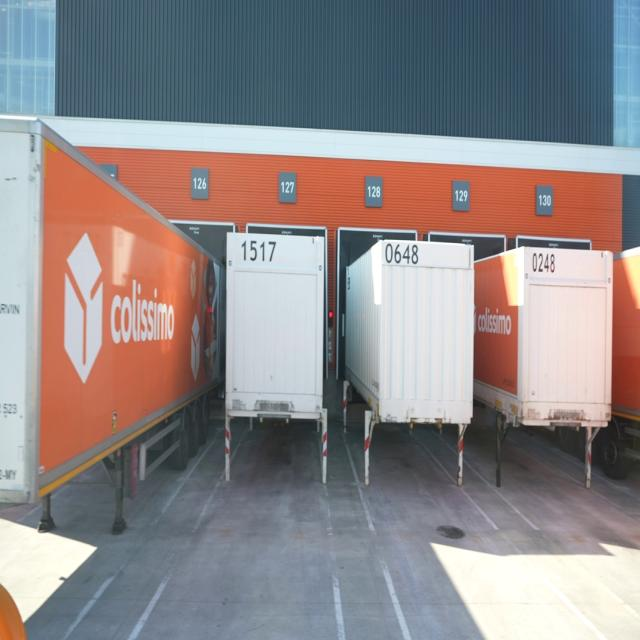Code: (238, 230, 280, 267), (385, 240, 421, 266), (528, 249, 560, 278)
